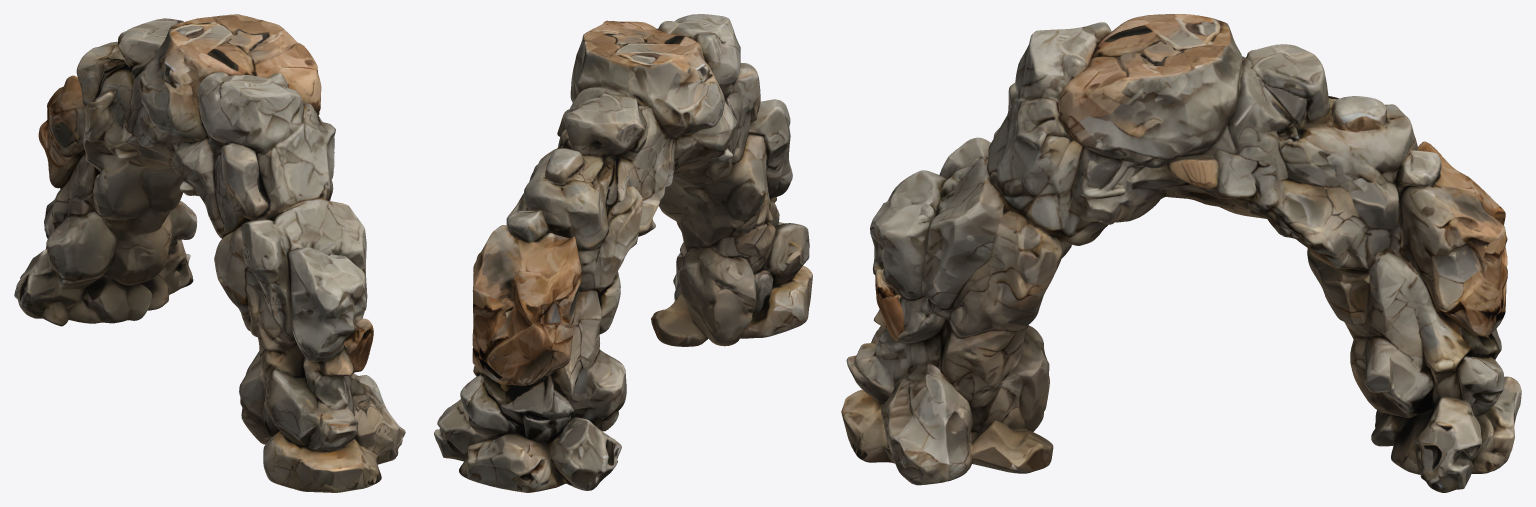
File: nature-rock-arch.glb
3 renders of one model, left to right at view 1: azimuth 30°, elevation 25°; view 2: azimuth 150°, elevation 25°; view 3: azimuth 270°, elevation 25°, orthographic. The views are drawn at different scales.
Visible parts, largest first — view 1: tripo_node_e10f7599-49d6-4add-bc68-3bed92a84fd7; view 2: tripo_node_e10f7599-49d6-4add-bc68-3bed92a84fd7; view 3: tripo_node_e10f7599-49d6-4add-bc68-3bed92a84fd7.
Boxes of the visible parts, x1,y1,x2,y2 form: tripo_node_e10f7599-49d6-4add-bc68-3bed92a84fd7: [14, 14, 405, 492]; tripo_node_e10f7599-49d6-4add-bc68-3bed92a84fd7: [434, 14, 812, 492]; tripo_node_e10f7599-49d6-4add-bc68-3bed92a84fd7: [841, 14, 1521, 492].
Bounding box in the file's own units: 4.16 × 8 × 11.91.
1 material, 1 textured.
